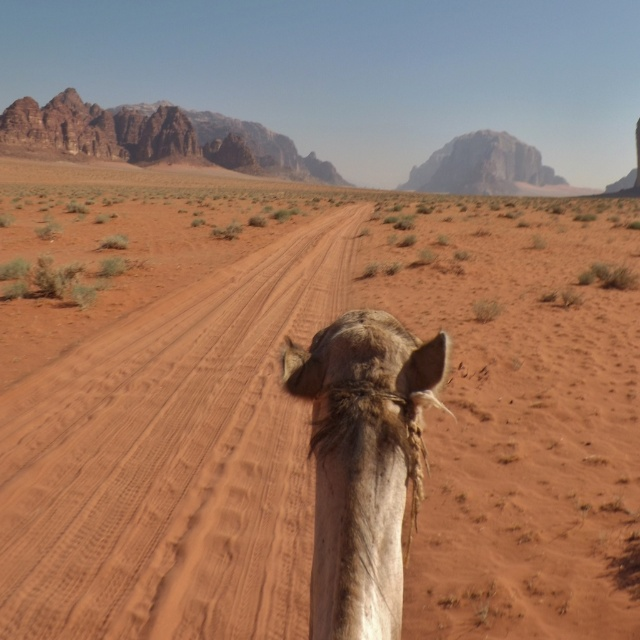Camel: (275, 312, 450, 640)
